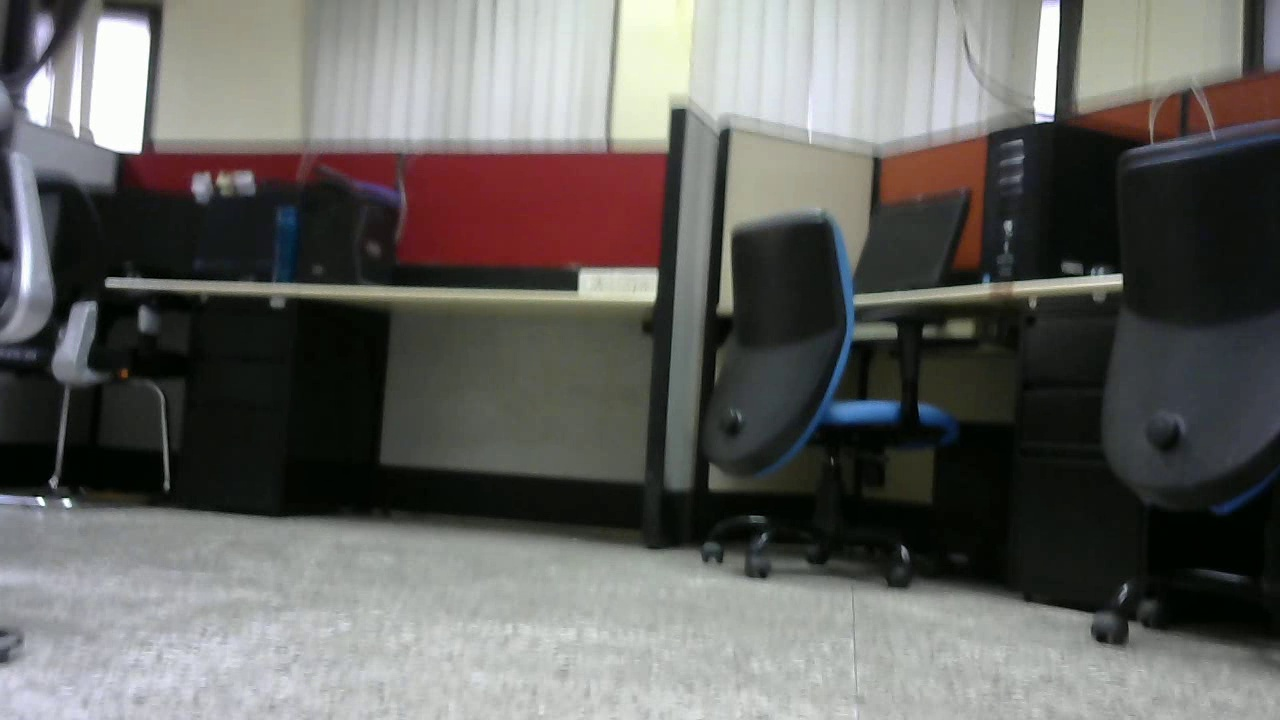chair: (687, 205, 961, 590)
